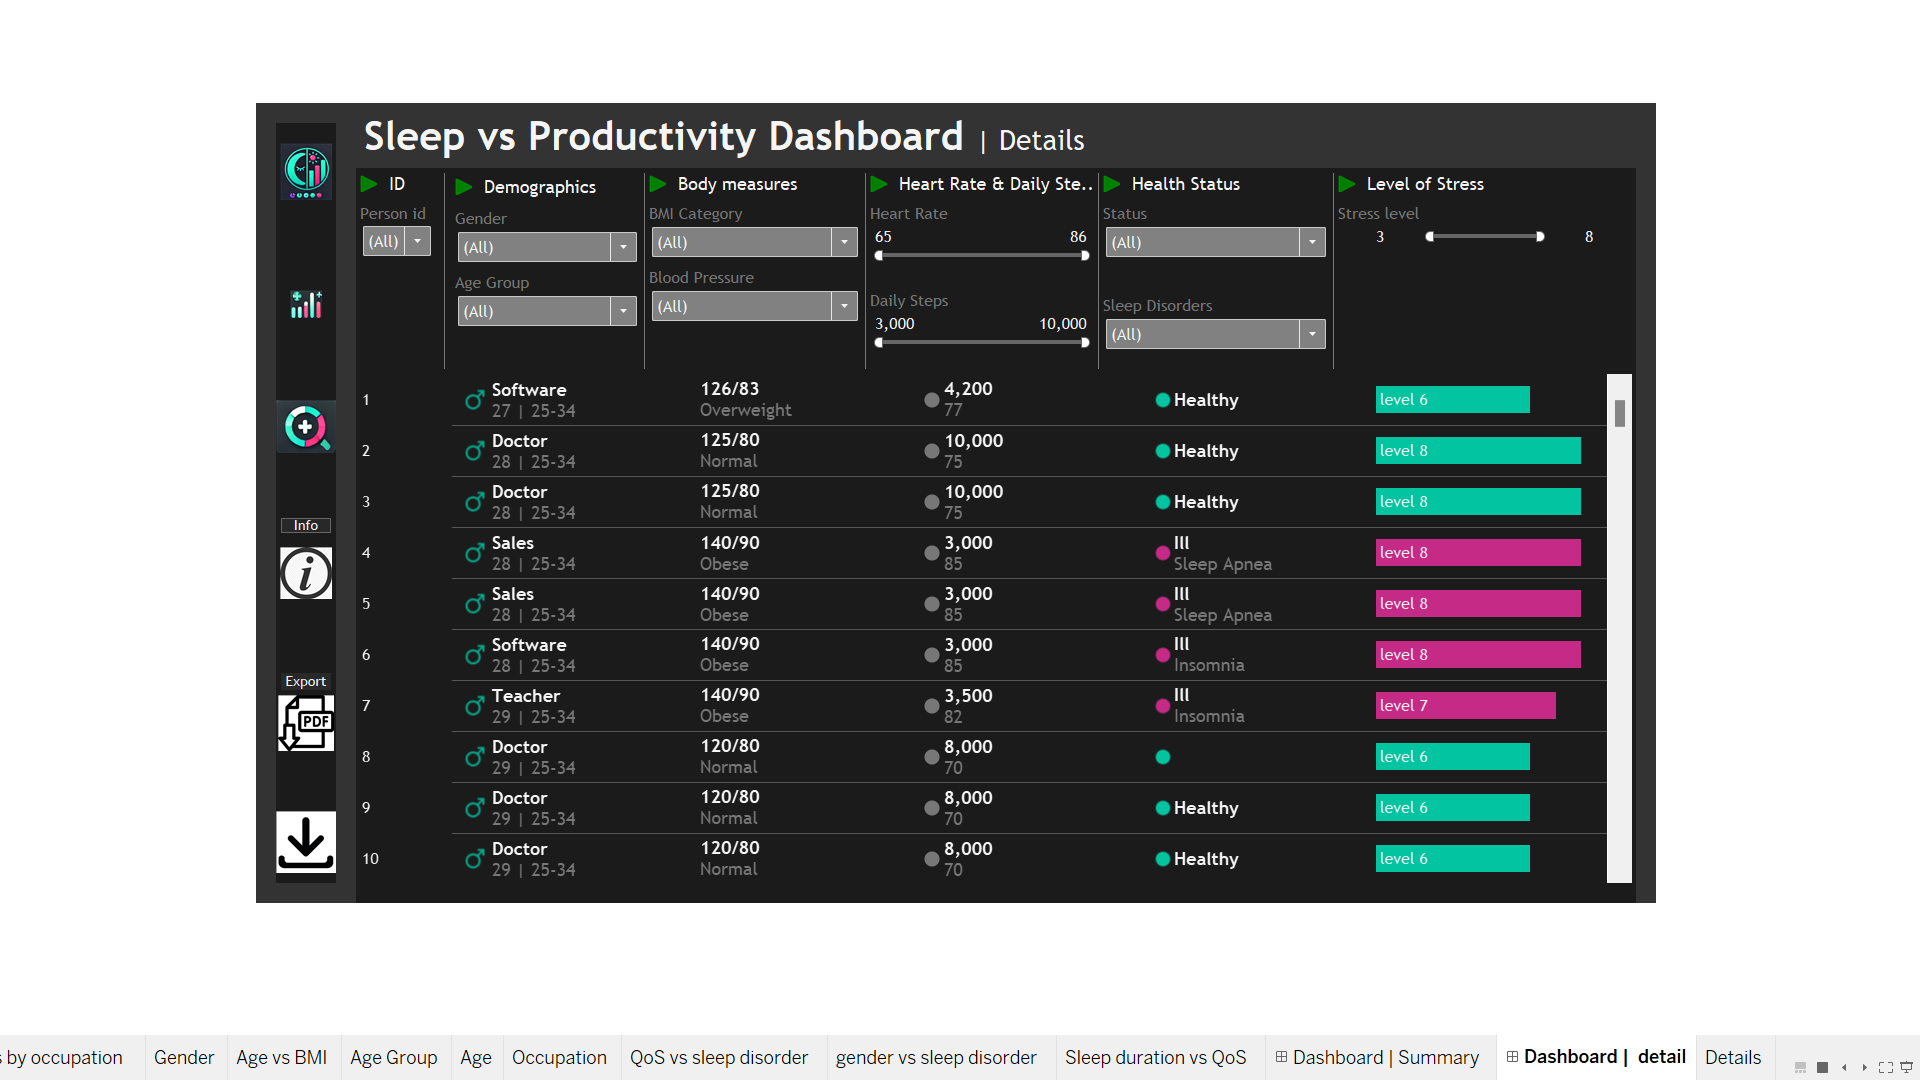

The page's visual inventory and layout, read from the dashboard file:
{"tool":"tableau","page":{"name":"Dashboard |  detail","canvas":[1400,800],"ordinal":0},"visuals":[{"type":"image","param":"Image/Screenshot 2024-10-30 102937.png","box":[16,6,60,97]},{"type":"dashboard-object","box":[96,51,25,32]},{"type":"text","box":[121,51,57,32]},{"type":"blank","box":[178,51,13,206]},{"type":"dashboard-object","box":[191,51,25,37]},{"type":"text","box":[216,51,168,37]},{"type":"blank","box":[384,51,1,206]},{"type":"dashboard-object","box":[385,51,25,32]},{"type":"text","box":[410,51,195,32]},{"type":"blank","box":[605,51,1,206]},{"type":"dashboard-object","box":[606,51,25,32]},{"type":"text","box":[631,51,207,32]},{"type":"blank","box":[838,51,1,206]},{"type":"dashboard-object","box":[839,51,25,32]},{"type":"text","box":[864,51,209,32]},{"type":"blank","box":[1073,51,1,206]},{"type":"dashboard-object","box":[1074,51,25,32]},{"type":"text","box":[1098.9,51,277,32]},{"type":"filter","title":"Details","param":"[federated.1chk01q0jo485z14okou31dey73w].[none:Person id:ok]","box":[96,83,82,62]},{"type":"filter","title":"Details","param":"[federated.1chk01q0jo485z14okou31dey73w].[none:BMI Category:nk]","box":[385,83,220,64]},{"type":"filter","title":"Details","param":"[federated.1chk01q0jo485z14okou31dey73w].[sum:Heart Rate:qk]","box":[606,83,232,87]},{"type":"filter","title":"Details","param":"[federated.1chk01q0jo485z14okou31dey73w].[none:Calculation_681169452490223616:nk","box":[839,83,234,92]},{"type":"filter","title":"Details","param":"[federated.1chk01q0jo485z14okou31dey73w].[sum:Stress level:qk]","box":[1074,83,302,174]},{"type":"filter","title":"Details","param":"[federated.1chk01q0jo485z14okou31dey73w].[none:Gender:nk]","box":[191,88,193,64]},{"type":"blank","box":[16,103,60,60]},{"type":"filter","title":"Details","param":"[federated.1chk01q0jo485z14okou31dey73w].[none:Blood Pressure:nk]","box":[385,147,220,64]},{"type":"filter","title":"Details","param":"[federated.1chk01q0jo485z14okou31dey73w].[none:Calculation_1612570147796545544:n","box":[191,152,193,64]},{"type":"filter","title":"Details","param":"[federated.1chk01q0jo485z14okou31dey73w].[sum:Daily Steps:qk]","box":[606,170,232,87]},{"type":"dashboard-object","box":[26,173,40,28]},{"type":"filter","title":"Details","param":"[federated.1chk01q0jo485z14okou31dey73w].[none:Sleep Disorders:nk]","box":[839,175,234,82]},{"type":"blank","box":[16,223,60,60]},{"type":"worksheet","title":"Details","mark":"Shape","rows":["Person id"],"cols":["Calculation_1782862511587909633","Calculation_1782862511587909633","Calculation_1782862511587909633","Calculation_1782862511587909633","Stress level"],"box":[96,257,1280,529]},{"type":"text","box":[81,266,1294,231]},{"type":"dashboard-object","box":[16,283,60,53]},{"type":"blank","box":[16,336,60,60]},{"type":"text","box":[16,396,60,25]},{"type":"dashboard-object","box":[16,421,60,70]},{"type":"blank","box":[16,491,60,60]},{"type":"text","box":[16,551,60,27]},{"type":"dashboard-object","box":[16,578,60,56]},{"type":"blank","box":[16,634,60,60]},{"type":"dashboard-object","box":[16,694,60,62]}]}

Visuals, with their boxes on the page's 1400x800 design canvas (x1, y1, x2, y2). These are canvas units, not pixel positions in the 1920x1080 screenshot, which may show the page scaled, cropped or inside an application window:
image: pyautogui.locateOnScreen(16, 6, 76, 103)
dashboard-object: pyautogui.locateOnScreen(96, 51, 121, 83)
text: pyautogui.locateOnScreen(121, 51, 178, 83)
blank: pyautogui.locateOnScreen(178, 51, 191, 257)
dashboard-object: pyautogui.locateOnScreen(191, 51, 216, 88)
text: pyautogui.locateOnScreen(216, 51, 384, 88)
blank: pyautogui.locateOnScreen(384, 51, 385, 257)
dashboard-object: pyautogui.locateOnScreen(385, 51, 410, 83)
text: pyautogui.locateOnScreen(410, 51, 605, 83)
blank: pyautogui.locateOnScreen(605, 51, 606, 257)
dashboard-object: pyautogui.locateOnScreen(606, 51, 631, 83)
text: pyautogui.locateOnScreen(631, 51, 838, 83)
blank: pyautogui.locateOnScreen(838, 51, 839, 257)
dashboard-object: pyautogui.locateOnScreen(839, 51, 864, 83)
text: pyautogui.locateOnScreen(864, 51, 1073, 83)
blank: pyautogui.locateOnScreen(1073, 51, 1074, 257)
dashboard-object: pyautogui.locateOnScreen(1074, 51, 1099, 83)
text: pyautogui.locateOnScreen(1099, 51, 1376, 83)
"Details" filter: pyautogui.locateOnScreen(96, 83, 178, 145)
"Details" filter: pyautogui.locateOnScreen(385, 83, 605, 147)
"Details" filter: pyautogui.locateOnScreen(606, 83, 838, 170)
"Details" filter: pyautogui.locateOnScreen(839, 83, 1073, 175)
"Details" filter: pyautogui.locateOnScreen(1074, 83, 1376, 257)
"Details" filter: pyautogui.locateOnScreen(191, 88, 384, 152)
blank: pyautogui.locateOnScreen(16, 103, 76, 163)
"Details" filter: pyautogui.locateOnScreen(385, 147, 605, 211)
"Details" filter: pyautogui.locateOnScreen(191, 152, 384, 216)
"Details" filter: pyautogui.locateOnScreen(606, 170, 838, 257)
dashboard-object: pyautogui.locateOnScreen(26, 173, 66, 201)
"Details" filter: pyautogui.locateOnScreen(839, 175, 1073, 257)
blank: pyautogui.locateOnScreen(16, 223, 76, 283)
"Details" worksheet (Shape marks): pyautogui.locateOnScreen(96, 257, 1376, 786)
text: pyautogui.locateOnScreen(81, 266, 1375, 497)
dashboard-object: pyautogui.locateOnScreen(16, 283, 76, 336)
blank: pyautogui.locateOnScreen(16, 336, 76, 396)
text: pyautogui.locateOnScreen(16, 396, 76, 421)
dashboard-object: pyautogui.locateOnScreen(16, 421, 76, 491)
blank: pyautogui.locateOnScreen(16, 491, 76, 551)
text: pyautogui.locateOnScreen(16, 551, 76, 578)
dashboard-object: pyautogui.locateOnScreen(16, 578, 76, 634)
blank: pyautogui.locateOnScreen(16, 634, 76, 694)
dashboard-object: pyautogui.locateOnScreen(16, 694, 76, 756)
